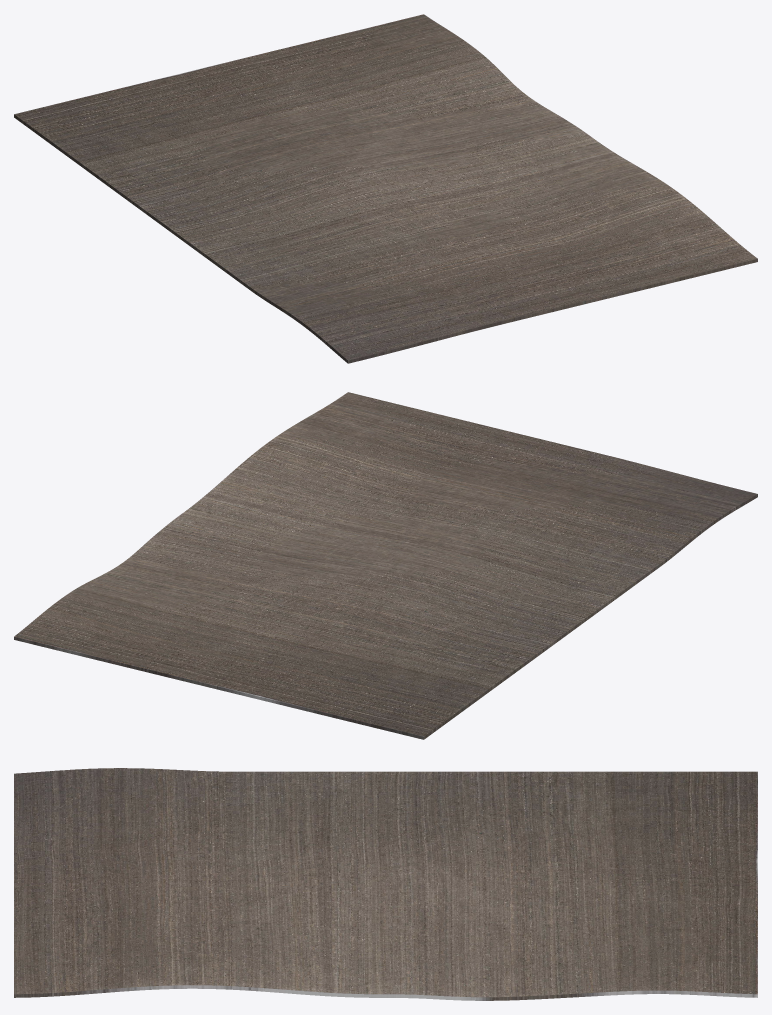
The model's file is 21703_Grey_Nomad_Kilim_Rug.glb.
3 renders of one model, top to bottom at view 1: azimuth 30°, elevation 25°; view 2: azimuth 150°, elevation 25°; view 3: azimuth 270°, elevation 25°, orthographic. The views are drawn at different scales.
Visible parts, largest first — view 1: Component; view 2: Component; view 3: Component.
Boxes of the visible parts, box(x1,y1,x2,y2) form: Component: box(14, 14, 757, 363); Component: box(14, 392, 757, 739); Component: box(14, 768, 757, 1000).
Bounding box in the file's own units: 1.7 × 0.0589 × 2.4.
1 material, 1 textured.
